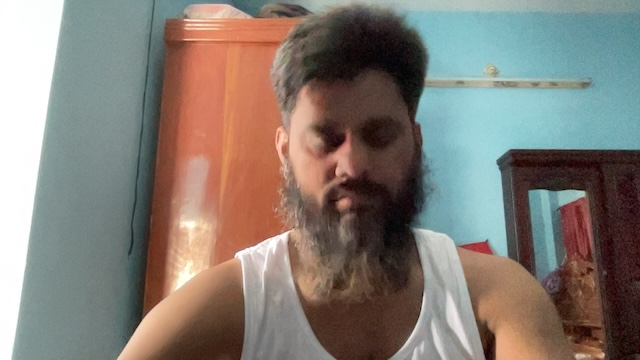Goggles: (280, 77, 417, 264)
